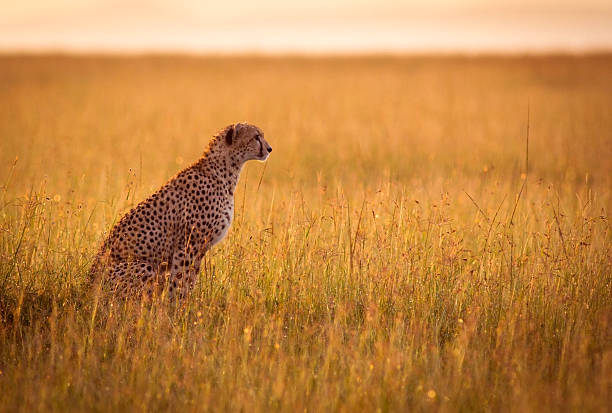cheetah: (206, 116, 279, 184)
